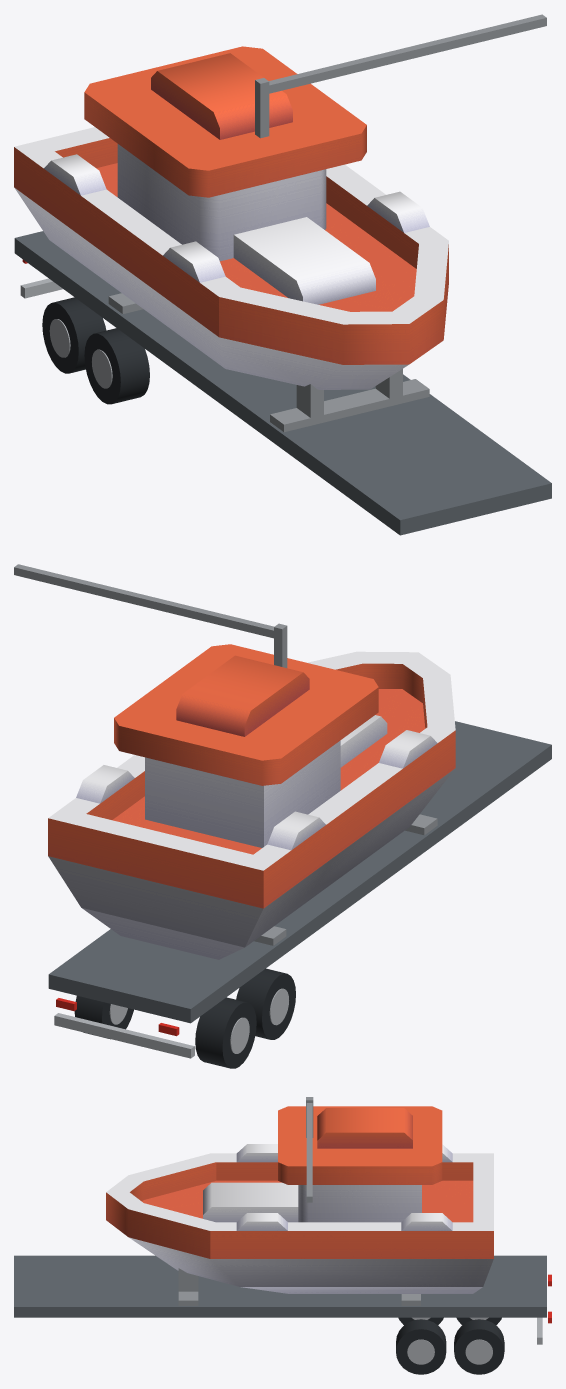
The model's file is boat-carrier.glb.
3 views of the same model, one above another, from view 1: azimuth 30°, elevation 25°; view 2: azimuth 150°, elevation 25°; view 3: azimuth 270°, elevation 25° (orthographic). The views are drawn at different scales.
Parts seen in each view (by area): view 1: boat-sail-a, deck, rescue-side-boom, wheel_lr-tire, hull-support-bunk, wheel_lr2-tire, rescue-boom-mast, hull-contact-support, wheel_lr2-rim-1, wheel_lr-rim-1; view 2: boat-sail-a, deck, rescue-side-boom, wheel_lr2-tire, wheel_lr-tire, rear-under-run, wheel_rr2-tire; view 3: boat-sail-a, deck, wheel_rr2-tire, wheel_rr-tire, rescue-side-boom, wheel_rr-rim1, wheel_rr2-rim1, hull-contact-support.
Part boxes in pixels (x1=…): boat-sail-a: x1=14, y1=46, x2=448, y2=389; deck: x1=14, y1=231, x2=551, y2=535; rescue-side-boom: x1=269, y1=14, x2=546, y2=93; wheel_lr-tire: x1=84, y1=328, x2=149, y2=404; hull-support-bunk: x1=270, y1=379, x2=429, y2=432; wheel_lr2-tire: x1=42, y1=297, x2=106, y2=373; rescue-boom-mast: x1=255, y1=78, x2=269, y2=138; hull-contact-support: x1=296, y1=384, x2=323, y2=425; wheel_lr2-rim-1: x1=49, y1=319, x2=70, y2=357; wheel_lr-rim-1: x1=92, y1=349, x2=112, y2=388; boat-sail-a: x1=48, y1=644, x2=455, y2=959; deck: x1=48, y1=721, x2=551, y2=1023; rescue-side-boom: x1=14, y1=564, x2=273, y2=638; wheel_lr2-tire: x1=195, y1=997, x2=256, y2=1068; wheel_lr-tire: x1=236, y1=968, x2=295, y2=1039; rear-under-run: x1=54, y1=1013, x2=194, y2=1058; wheel_rr2-tire: x1=74, y1=995, x2=133, y2=1039; boat-sail-a: x1=106, y1=1106, x2=493, y2=1293; deck: x1=14, y1=1255, x2=546, y2=1317; wheel_rr2-tire: x1=454, y1=1319, x2=504, y2=1374; wheel_rr-tire: x1=396, y1=1319, x2=446, y2=1374; rescue-side-boom: x1=306, y1=1103, x2=312, y2=1202; wheel_rr-rim1: x1=407, y1=1339, x2=434, y2=1364; wheel_rr2-rim1: x1=465, y1=1339, x2=492, y2=1364; hull-contact-support: x1=178, y1=1268, x2=198, y2=1291.
Size of the model in its own units: 6.54 by 5.68 by 11.1.
Materials: 6 (1 with a texture image).
